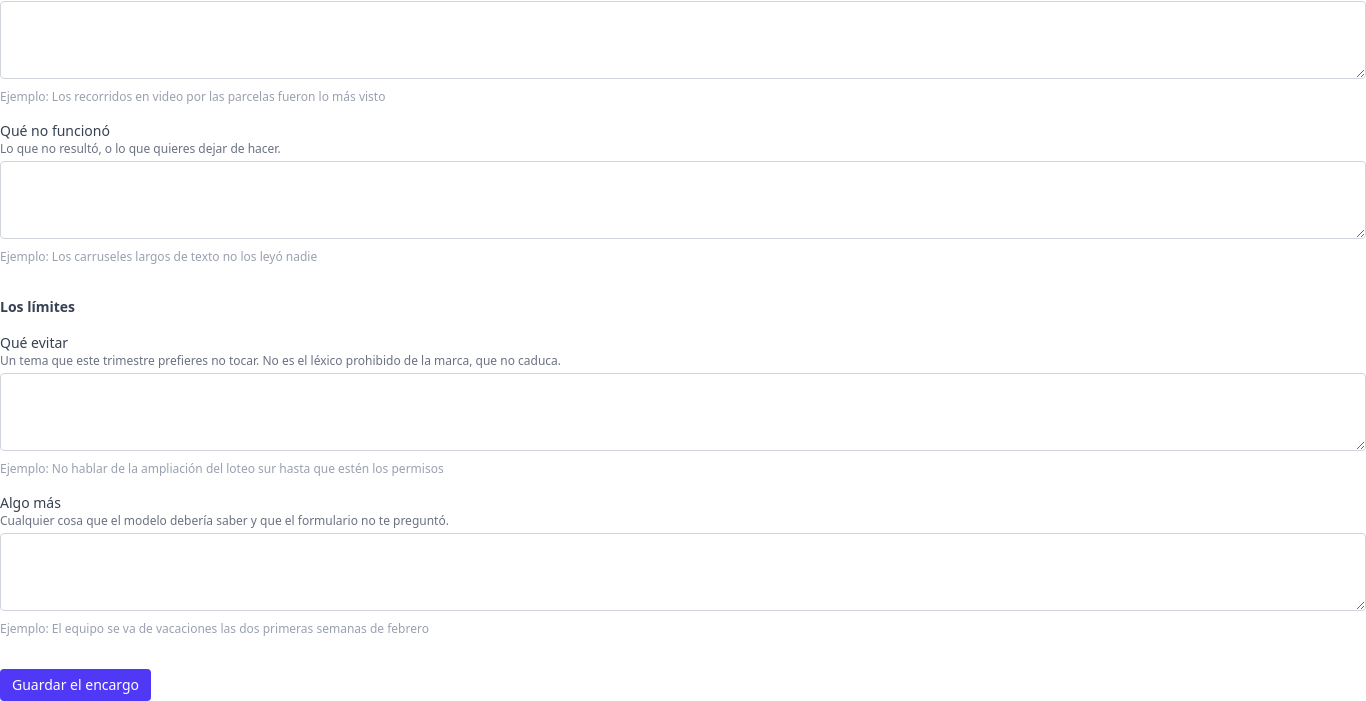
EditorDeEncargo › un fallo del servidor se muestra y no se anuncia éxito
(page scrolled)
Click the button "Guardar el encargo" at coordinates (76, 685), box [0,669,151,700]
(page scrolled)
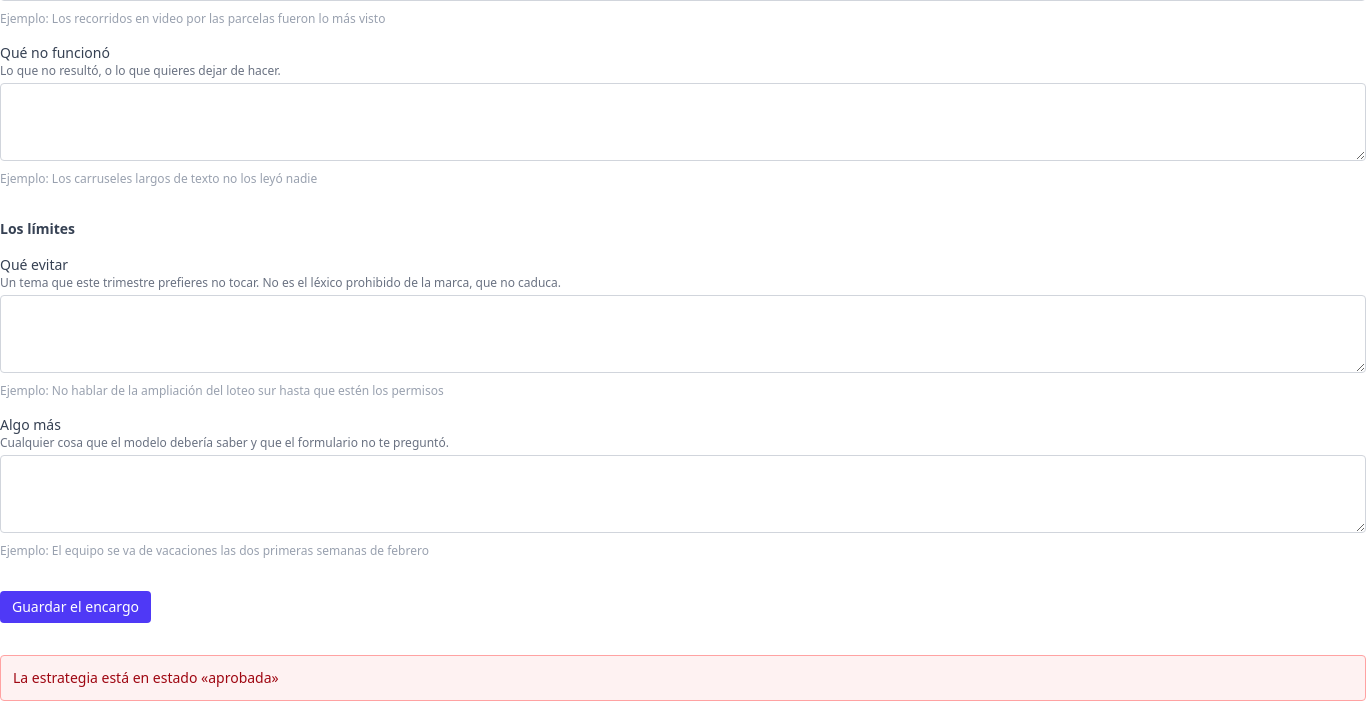
Expected: the message shows "aprobada", [13,668,279,687]
